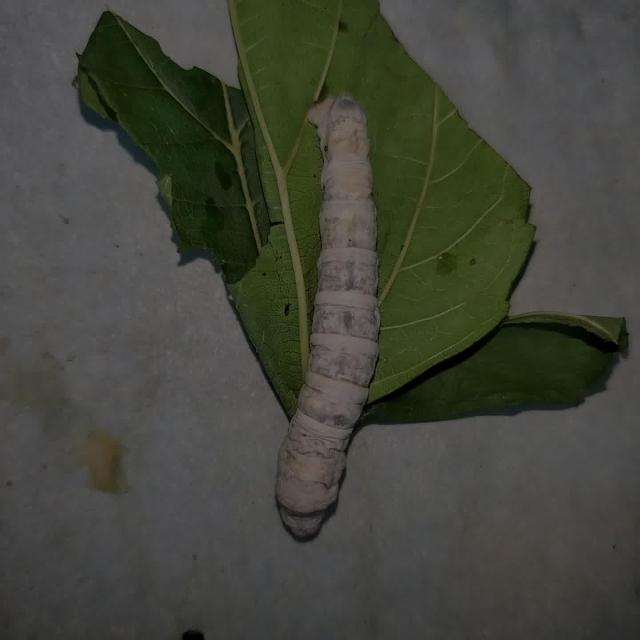Grasserie: (262, 77, 400, 553)
